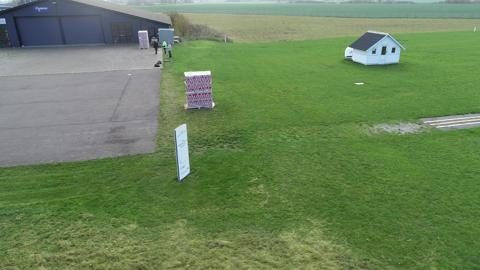RockwoolPallet: (137, 30, 150, 50)
